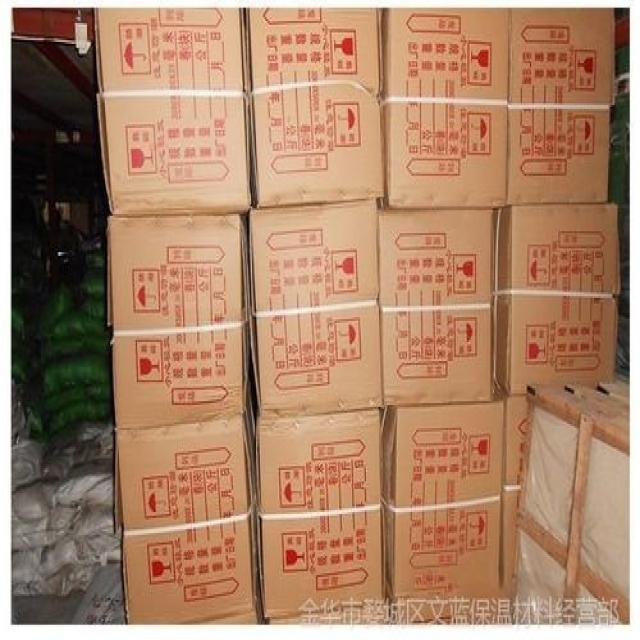box: (92, 10, 252, 212), (113, 409, 260, 625), (108, 210, 250, 422), (248, 201, 384, 416), (246, 6, 385, 208), (255, 407, 385, 619), (513, 383, 627, 623), (383, 399, 504, 621), (383, 8, 509, 210), (493, 203, 618, 396), (378, 210, 495, 409), (507, 8, 616, 208), (504, 399, 530, 602)
